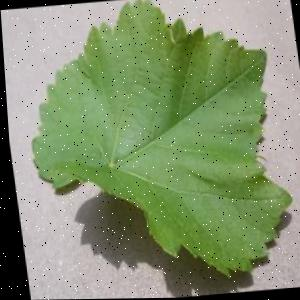Folha: (12, 0, 300, 295)
